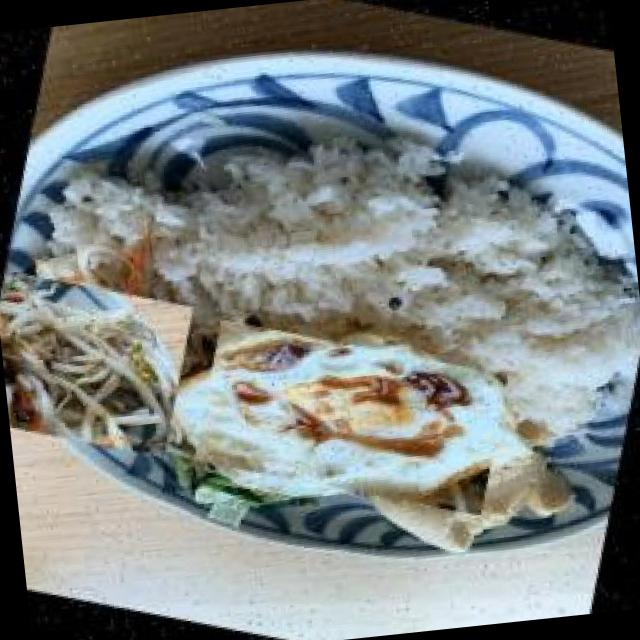fried_eggs: (179, 290, 524, 546)
mung_bean_sprouts: (0, 251, 208, 473)
rice: (130, 88, 635, 420)
